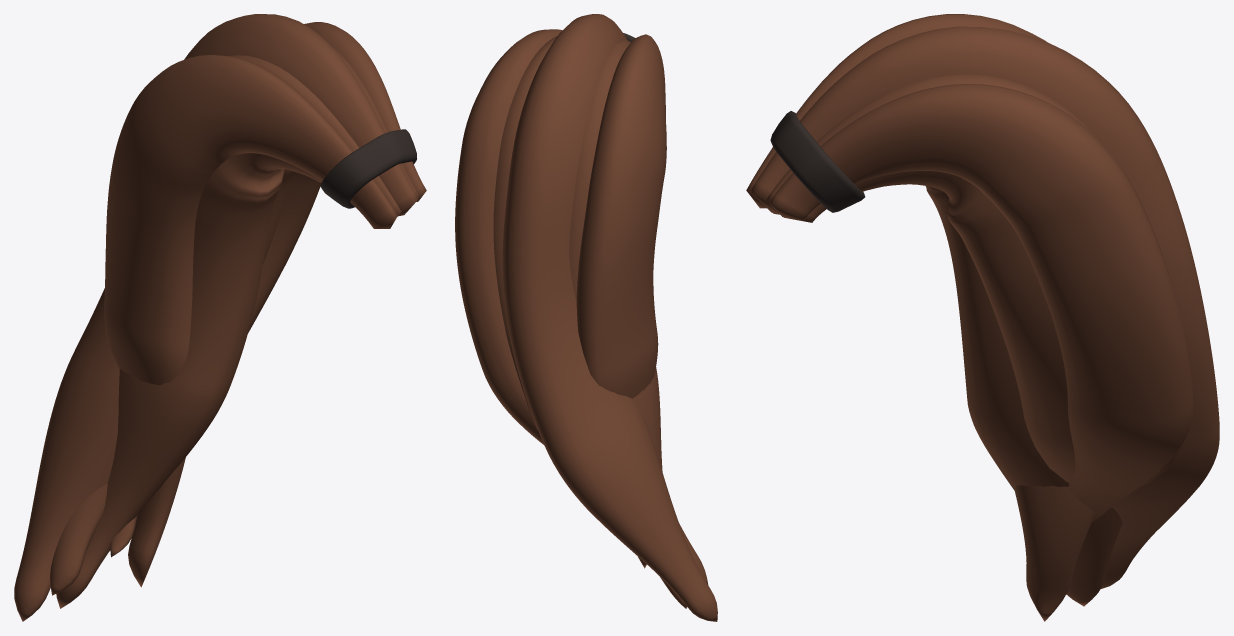
Rendered from ponytail-beanie-default.glb.
The picture shows the model from 3 angles, left to right: view 1: azimuth 30°, elevation 25°; view 2: azimuth 150°, elevation 25°; view 3: azimuth 270°, elevation 25°; orthographic projection. The views are drawn at different scales.
Parts seen in each view (by area): view 1: Hair / rounded tail220 0, Hair / rounded tail220 1, Hair / rounded tail220 2, Hair / rounded tail220 3, Hair / tie220, Hair / rounded tail220 4; view 2: Hair / rounded tail220 2, Hair / rounded tail220 0, Hair / rounded tail220 4, Hair / rounded tail220 1, Hair / rounded tail220 3; view 3: Hair / rounded tail220 4, Hair / rounded tail220 2, Hair / rounded tail220 3, Hair / rounded tail220 1, Hair / rounded tail220 0, Hair / tie220.
Boxes of the visible parts, x1,y1,x2,y2 form: Hair / rounded tail220 0: [104, 55, 397, 587]; Hair / rounded tail220 1: [56, 55, 401, 608]; Hair / rounded tail220 2: [14, 14, 418, 621]; Hair / rounded tail220 3: [50, 47, 419, 595]; Hair / tie220: [320, 129, 416, 208]; Hair / rounded tail220 4: [110, 22, 426, 557]; Hair / rounded tail220 2: [502, 14, 717, 621]; Hair / rounded tail220 0: [576, 34, 666, 568]; Hair / rounded tail220 4: [455, 29, 562, 444]; Hair / rounded tail220 1: [569, 39, 686, 608]; Hair / rounded tail220 3: [493, 36, 708, 584]; Hair / rounded tail220 4: [769, 84, 1193, 521]; Hair / rounded tail220 2: [750, 26, 1219, 588]; Hair / rounded tail220 3: [766, 74, 1181, 488]; Hair / rounded tail220 1: [773, 186, 1122, 606]; Hair / rounded tail220 0: [746, 14, 1095, 621]; Hair / tie220: [770, 111, 865, 212].
Bounding box in the file's own units: 0.2151 × 0.4144 × 0.2604.
